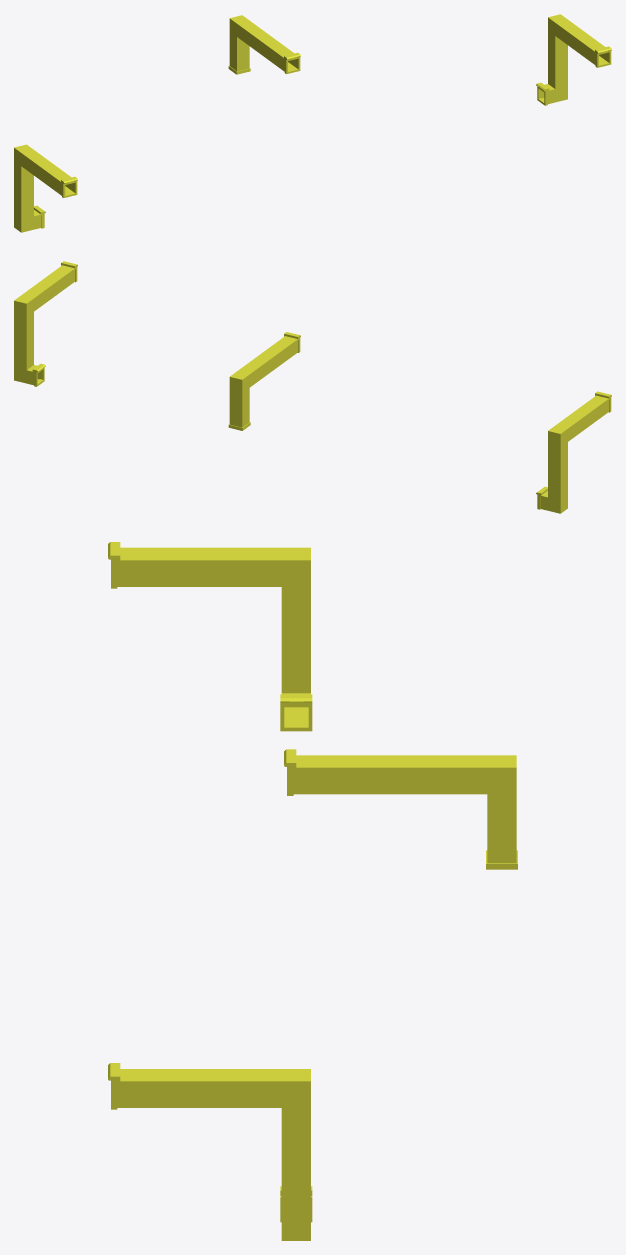
File: Encounter_003_Vents.fbx
The picture shows the model from 3 angles, top to bottom: view 1: azimuth 30°, elevation 25°; view 2: azimuth 150°, elevation 25°; view 3: azimuth 270°, elevation 25°; orthographic projection. The views are drawn at different scales.
Visible parts, largest first — view 1: Encounter_003_Vents; view 2: Encounter_003_Vents; view 3: Encounter_003_Vents.
Boxes of the visible parts, left/top/right/bottom form: Encounter_003_Vents: left=14, top=14, right=611, bottom=232; Encounter_003_Vents: left=14, top=261, right=611, bottom=513; Encounter_003_Vents: left=108, top=542, right=517, bottom=1240.
Bounding box in the file's own units: 4309 × 824 × 1396.
